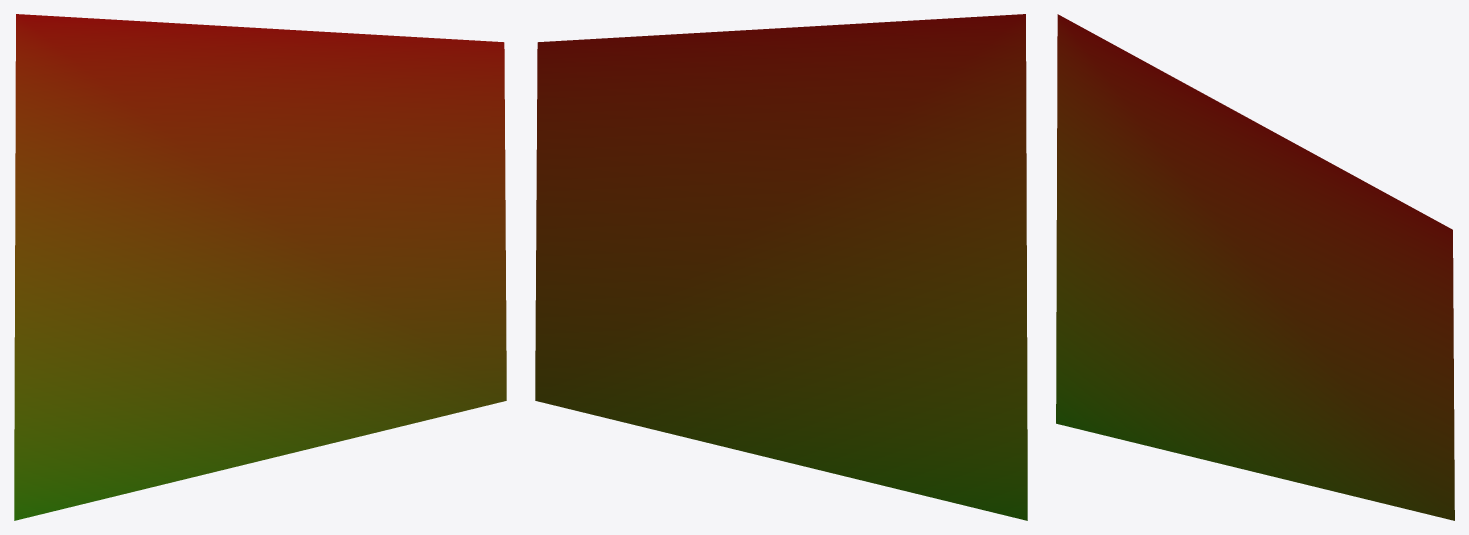
The model's file is Var1_LOD3.fbx.
3 views of the same model, side by side, from view 1: azimuth 30°, elevation 25°; view 2: azimuth 150°, elevation 25°; view 3: azimuth 330°, elevation 25° (orthographic). The views are drawn at different scales.
Visible parts, largest first — view 1: _b3d4_Var1_LOD3; view 2: _b3d4_Var1_LOD3; view 3: _b3d4_Var1_LOD3.
Boxes of the visible parts, <box> form: _b3d4_Var1_LOD3: <box>14,14,506,520</box>; _b3d4_Var1_LOD3: <box>535,14,1027,520</box>; _b3d4_Var1_LOD3: <box>1056,14,1454,520</box>.
Bounding box in the file's own units: 110 × 108 × 7.63e-06.
